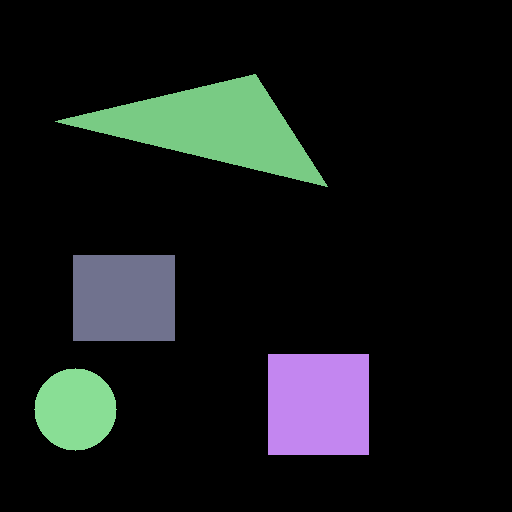circle: (34, 368, 116, 450)
rectangle: (73, 255, 174, 340)
square: (268, 354, 368, 454)
triangle: (55, 74, 327, 186)
